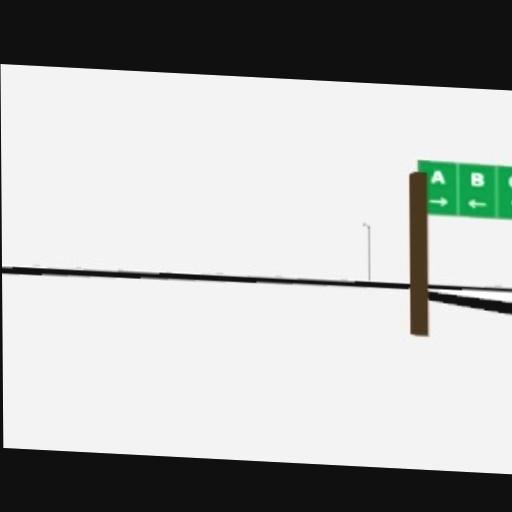A: (430, 169, 444, 184)
B: (470, 171, 484, 186)
C: (508, 173, 512, 190)
Left: (467, 199, 488, 209)
Right: (429, 195, 448, 206)
Straight: (510, 196, 512, 215)
